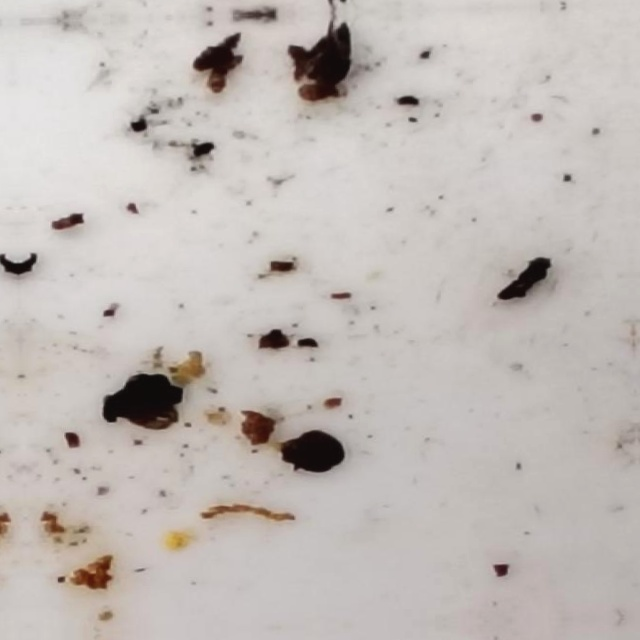varroa: (273, 424, 352, 472), (115, 398, 175, 429)
